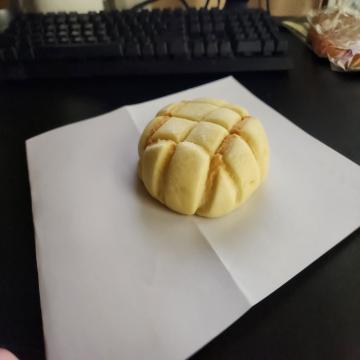melon_bread: (138, 101, 271, 219)
